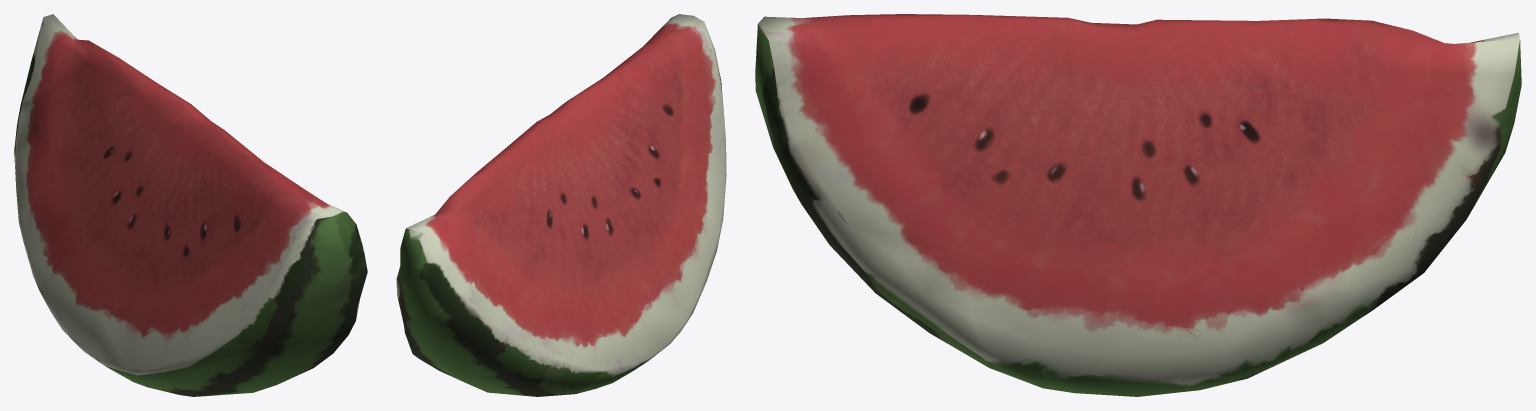
File: waterMelon.fbx
3 views of the same model, side by side, from view 1: azimuth 30°, elevation 25°; view 2: azimuth 150°, elevation 25°; view 3: azimuth 270°, elevation 25° (orthographic). The views are drawn at different scales.
Parts seen in each view (by area): view 1: NL_watermelon; view 2: NL_watermelon; view 3: NL_watermelon.
Boxes of the visible parts, x1,y1,x2,y2 form: NL_watermelon: (14, 14, 367, 396); NL_watermelon: (396, 14, 726, 396); NL_watermelon: (755, 14, 1521, 396).
Size of the model in its own units: 3.44 by 4.45 by 8.88.
